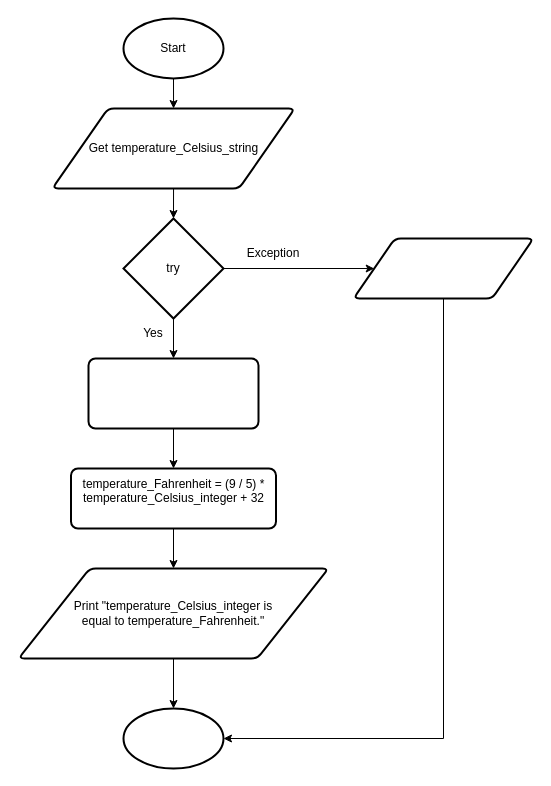
This 551x786 diagram has some shape labels left out. The centre of each missing label's shape, as x and y in pixels:
convert temperature_Celsius_string to temperature_Celsius_integer: point 173,393
Print "Invalid number!": point 443,268
Stop: point 173,738
